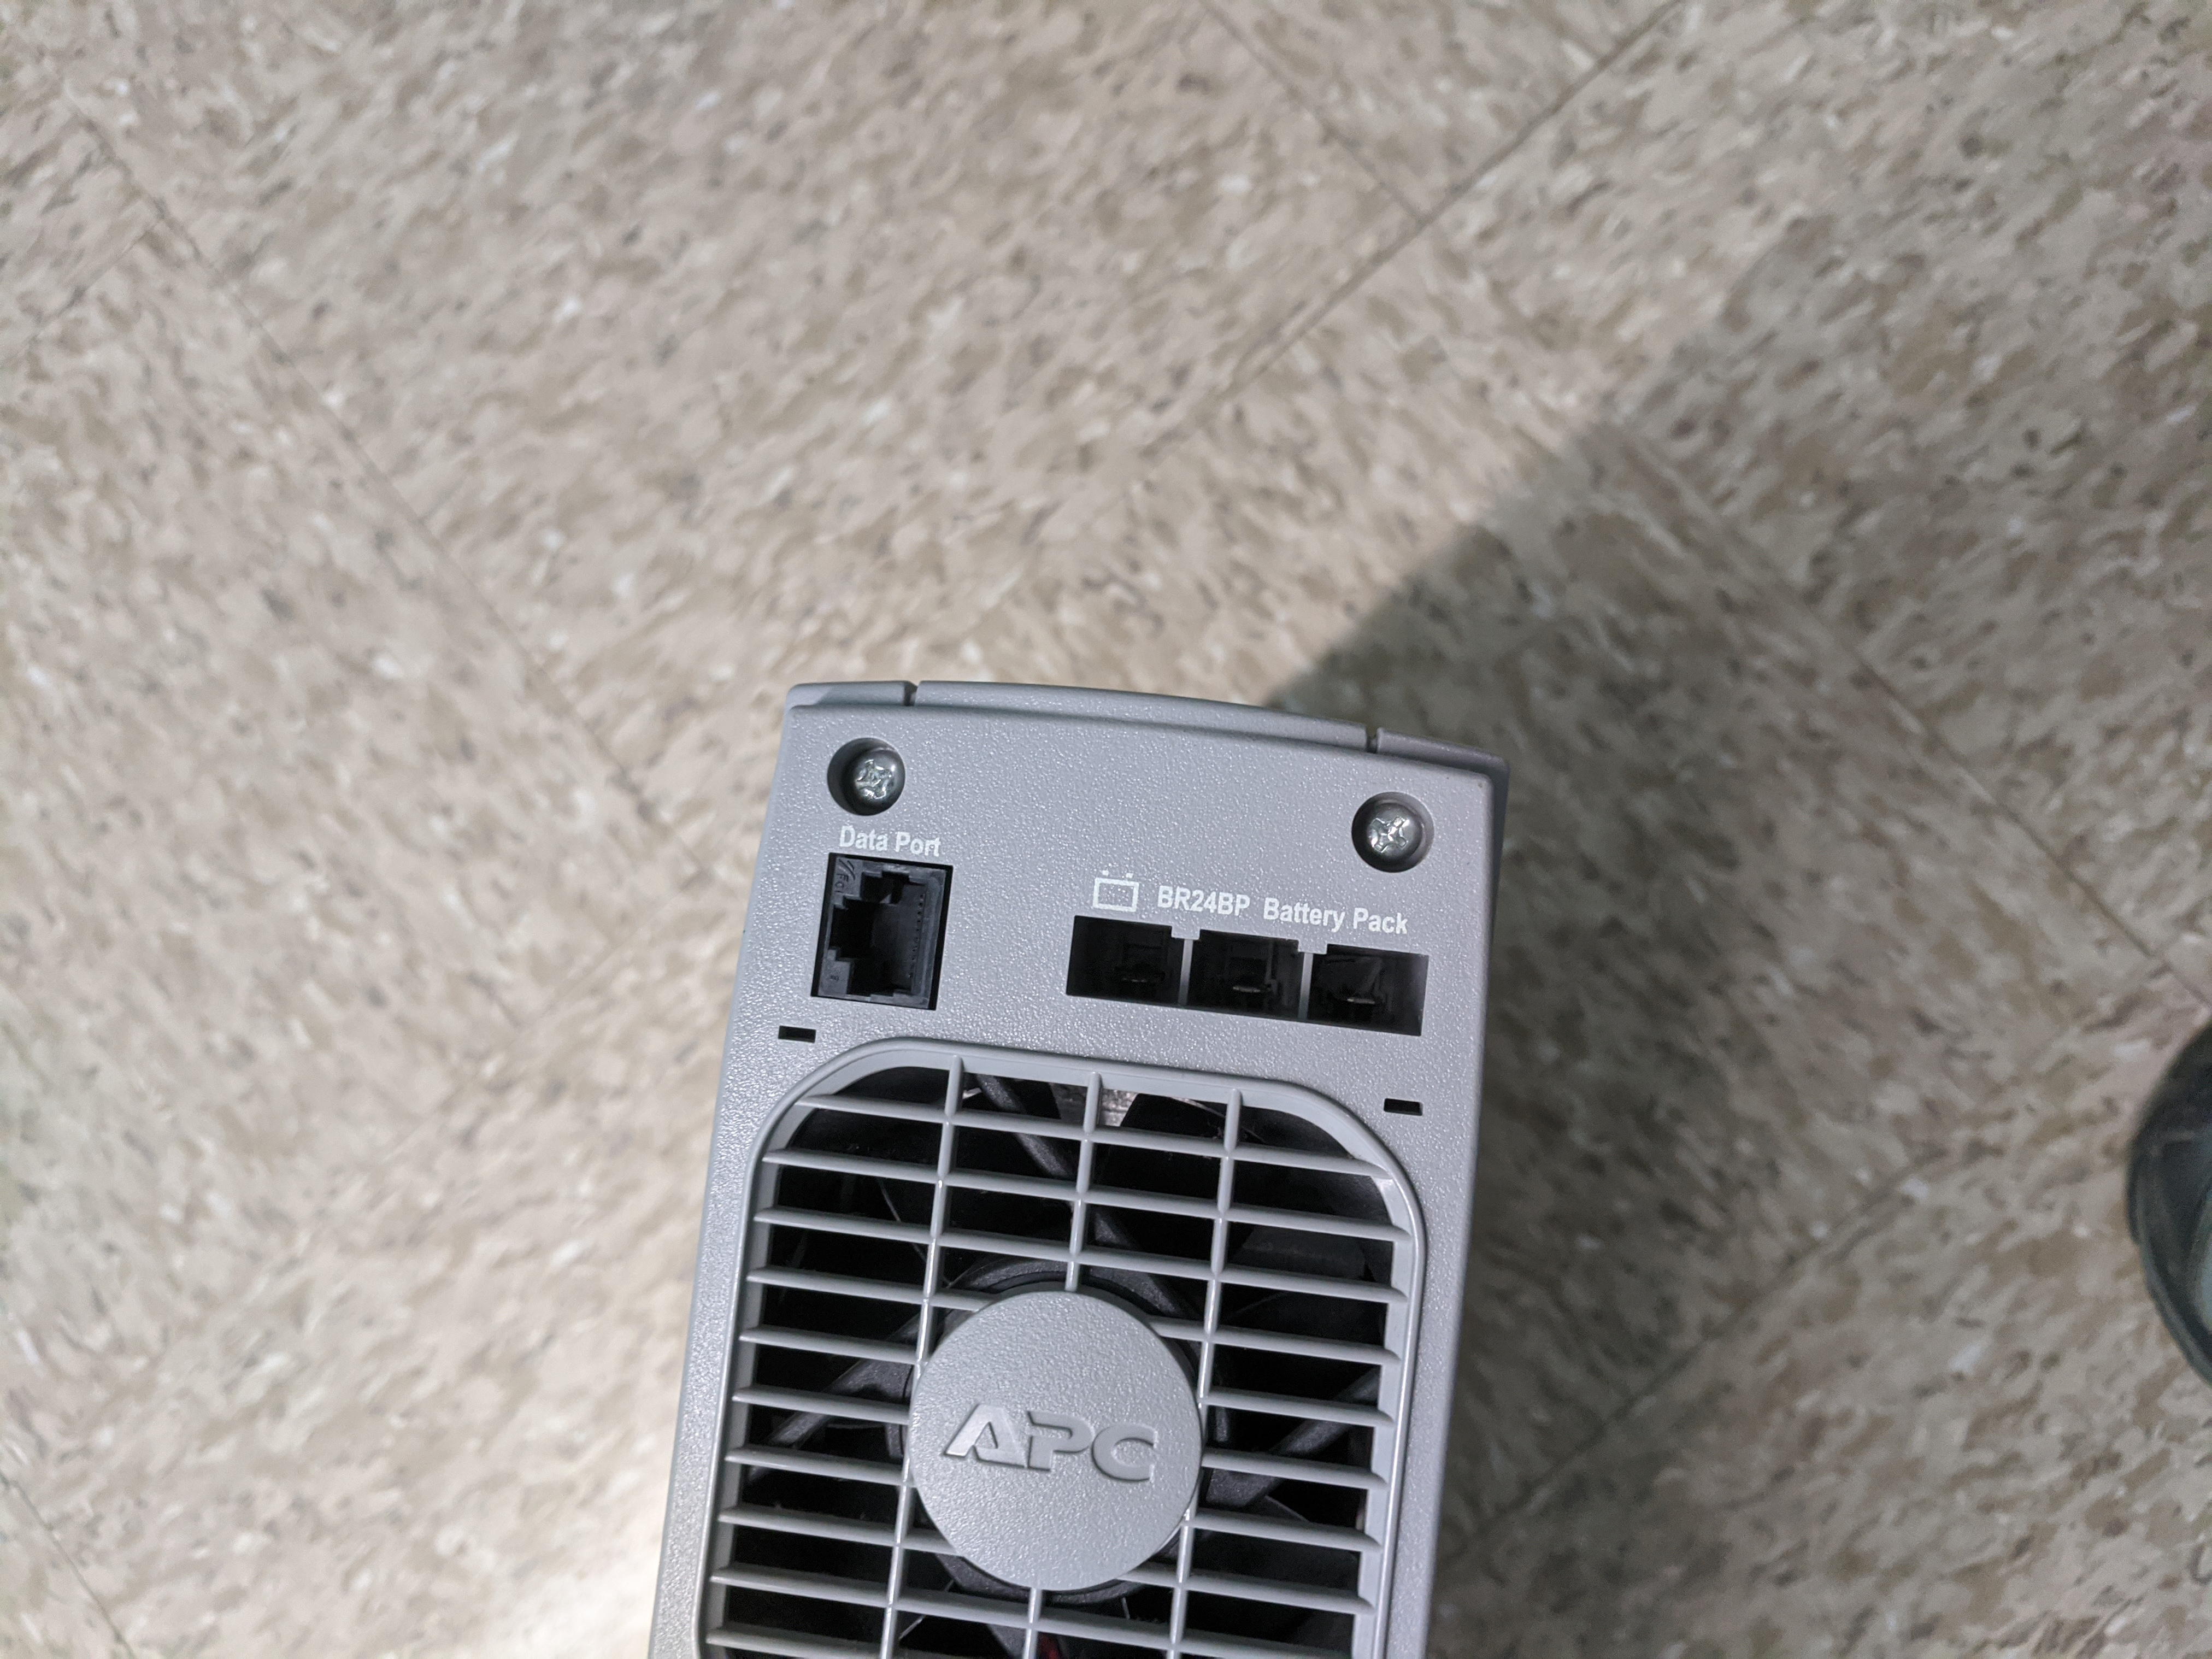cross_recessed_screw: (817, 732, 911, 823), (1350, 795, 1435, 871)
